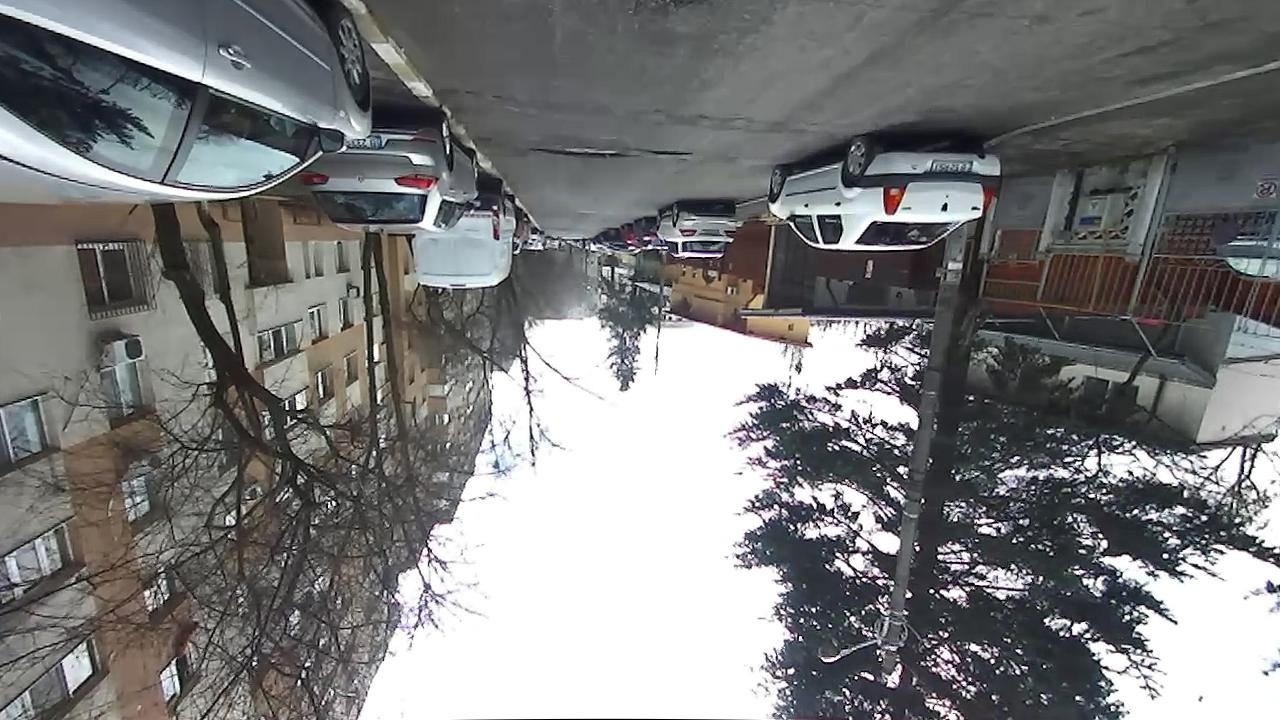pothole: (528, 140, 633, 163), (627, 0, 708, 20), (637, 142, 694, 161)
